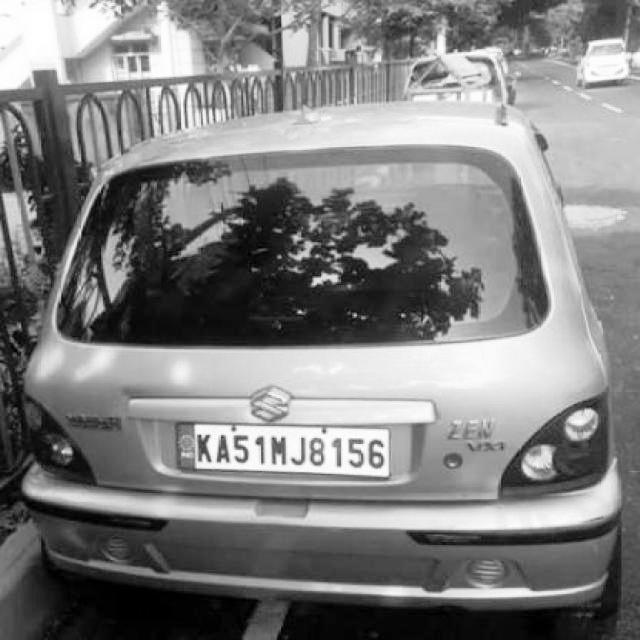Car: (31, 116, 632, 632)
